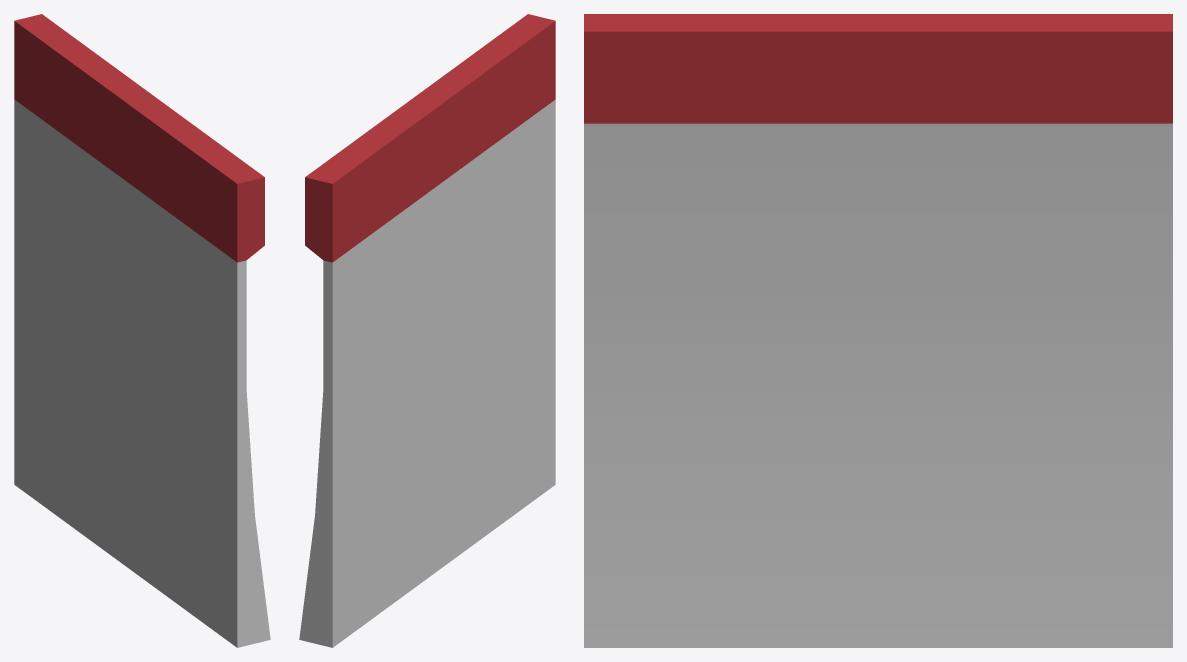
The model's file is calendar.fbx.
3 renders of one model, left to right at view 1: azimuth 30°, elevation 25°; view 2: azimuth 150°, elevation 25°; view 3: azimuth 270°, elevation 25°, orthographic. The views are drawn at different scales.
Parts seen in each view (by area): view 1: Cube; view 2: Cube; view 3: Cube.
Part boxes in pixels (x1,y1,x2,y2): Cube: (14, 14, 270, 647); Cube: (299, 14, 555, 647); Cube: (584, 14, 1172, 647).
Size of the model in its own units: 5.86 by 77.83 by 67.83.
